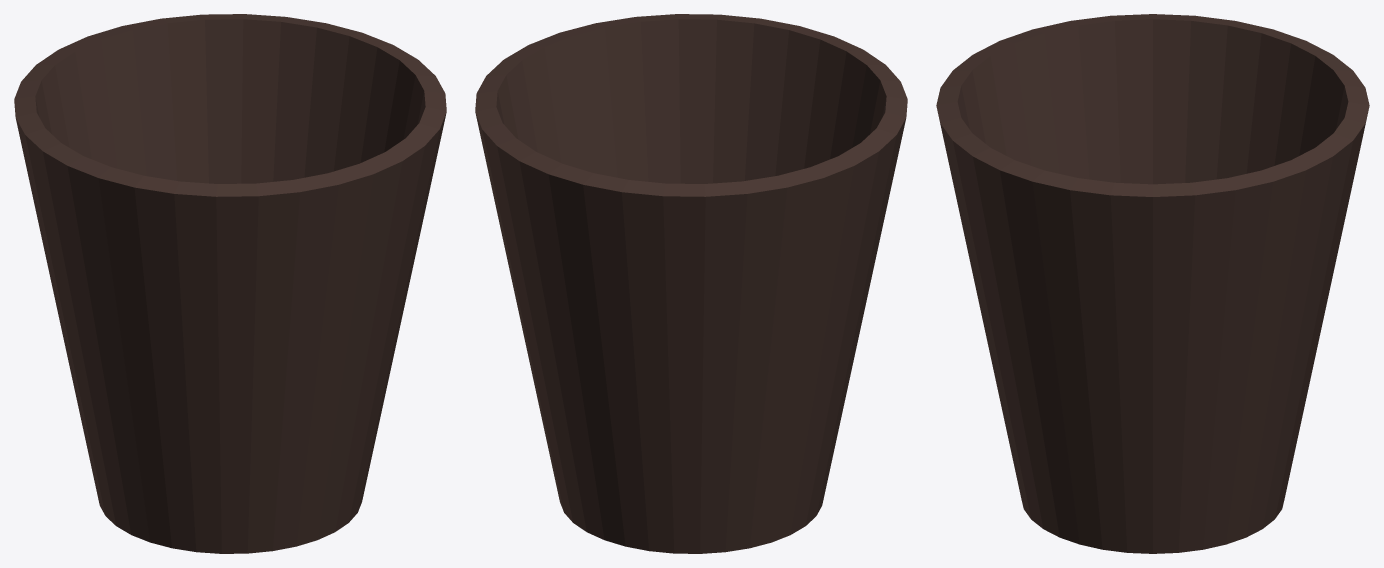
The model's file is mug.glb.
3 views of the same model, side by side, from view 1: azimuth 30°, elevation 25°; view 2: azimuth 150°, elevation 25°; view 3: azimuth 270°, elevation 25° (orthographic).
Parts seen in each view (by area): view 1: Cylinder; view 2: Cylinder; view 3: Cylinder.
Part boxes in pixels (box(x1,y1,x2,y2)): Cylinder: box(14, 14, 446, 553); Cylinder: box(475, 14, 907, 553); Cylinder: box(936, 14, 1369, 553).
Bounding box in the file's own units: 2 × 2.02 × 2.
1 material, 1 textured.
